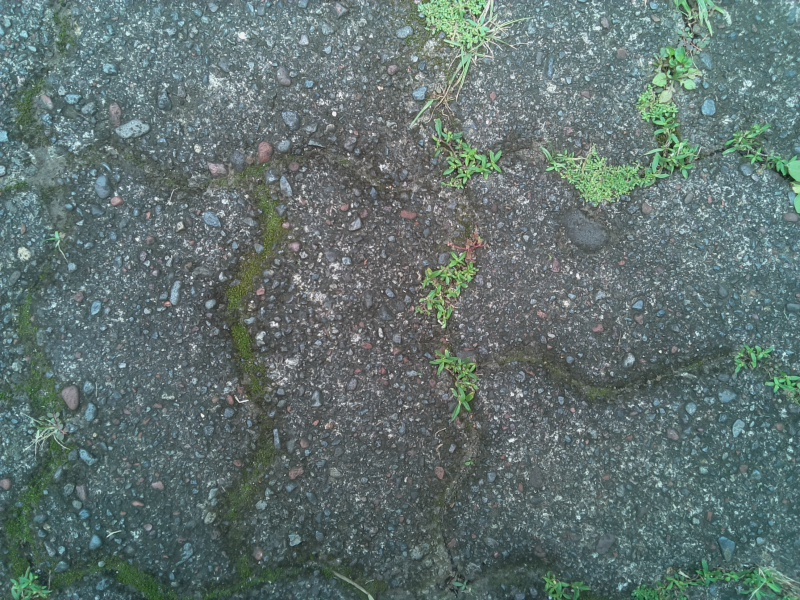Weed: (411, 1, 512, 72), (541, 147, 653, 203), (414, 250, 477, 327), (431, 122, 504, 188), (637, 109, 701, 181), (429, 351, 484, 416), (650, 42, 699, 97), (719, 124, 777, 169), (737, 559, 797, 600), (24, 410, 71, 459), (532, 563, 590, 600), (724, 341, 774, 373), (8, 567, 50, 600)
